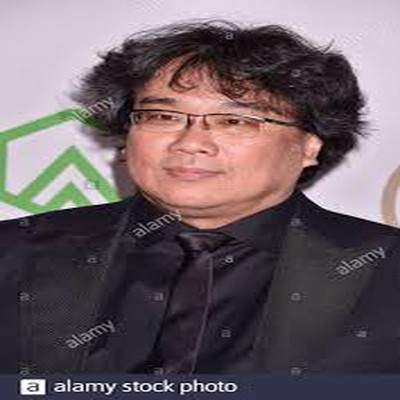eywear: (113, 100, 297, 160)
